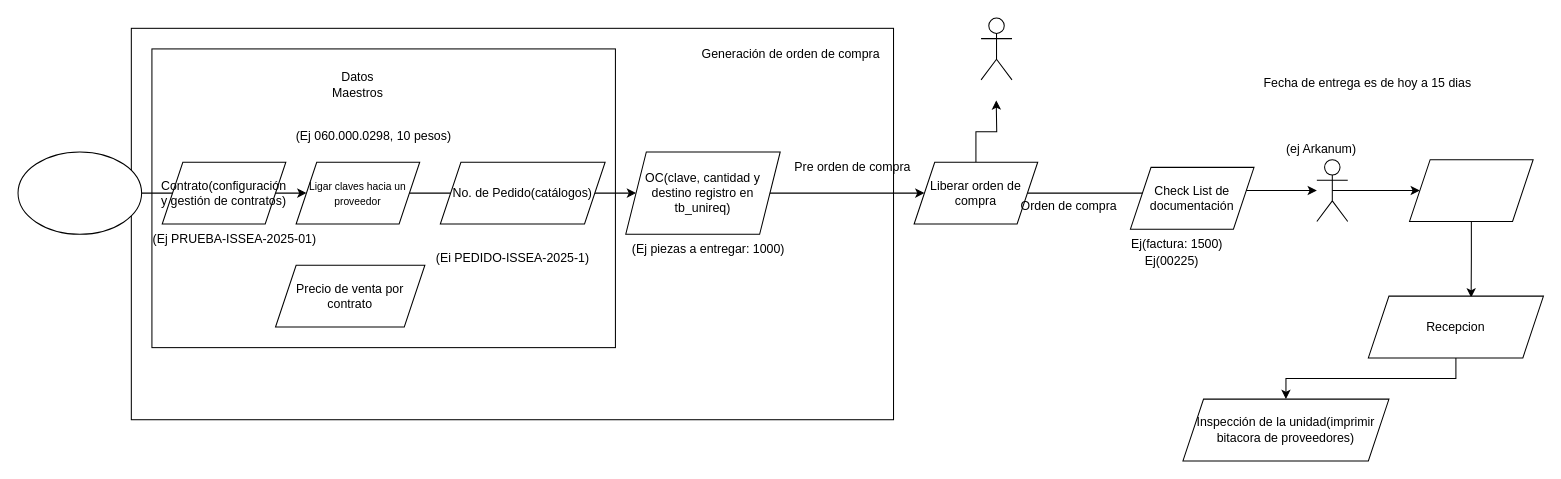
Image size: 1561x479. Some labels were removed from this diagram. Each missing label, with the centre of its shape:
"Dirección de operaciones" belongs at (x=996, y=48).
"Pago" belongs at (x=1471, y=190).
"Proveedores" belongs at (x=1332, y=190).
"Venta" belongs at (x=79, y=192).
